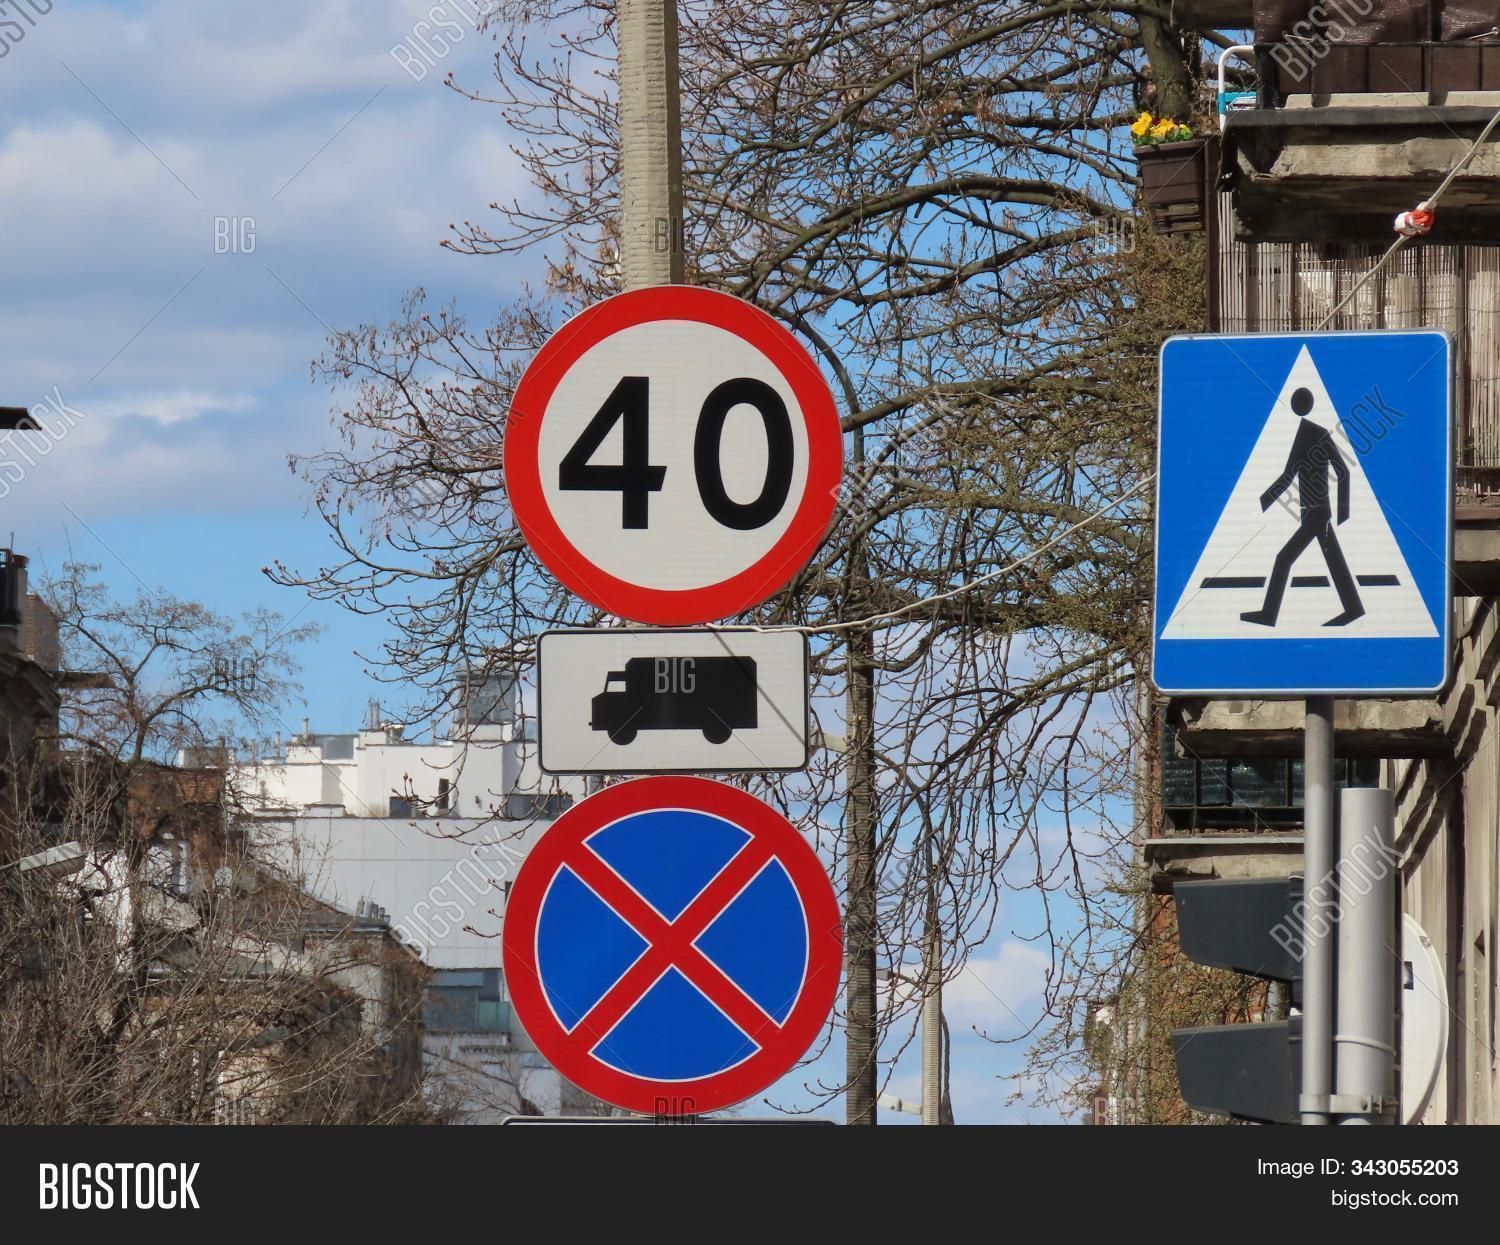40 Km/hr: (505, 287, 845, 619)
